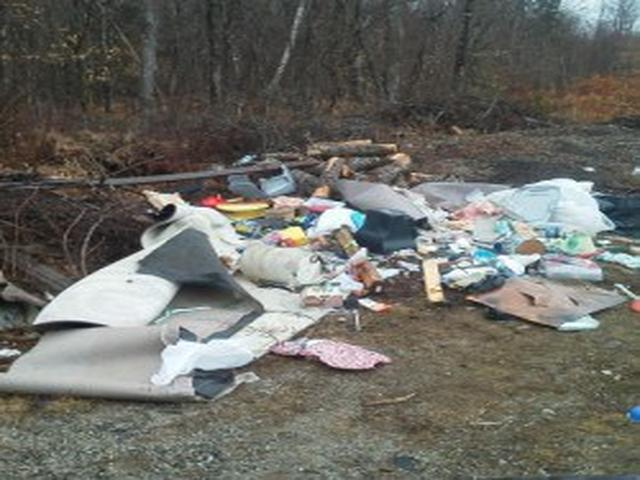garbage: (207, 192, 609, 297)
